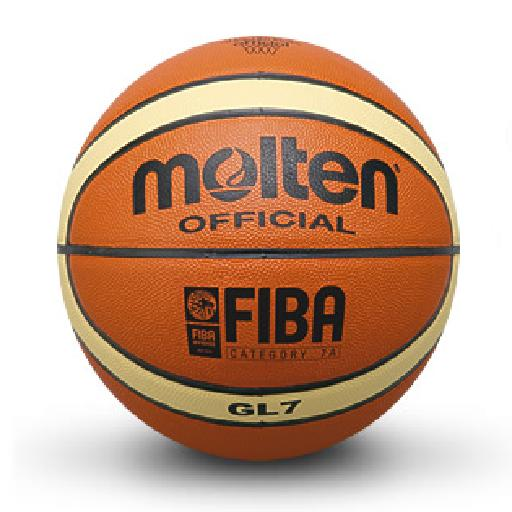ball: (58, 37, 461, 463)
